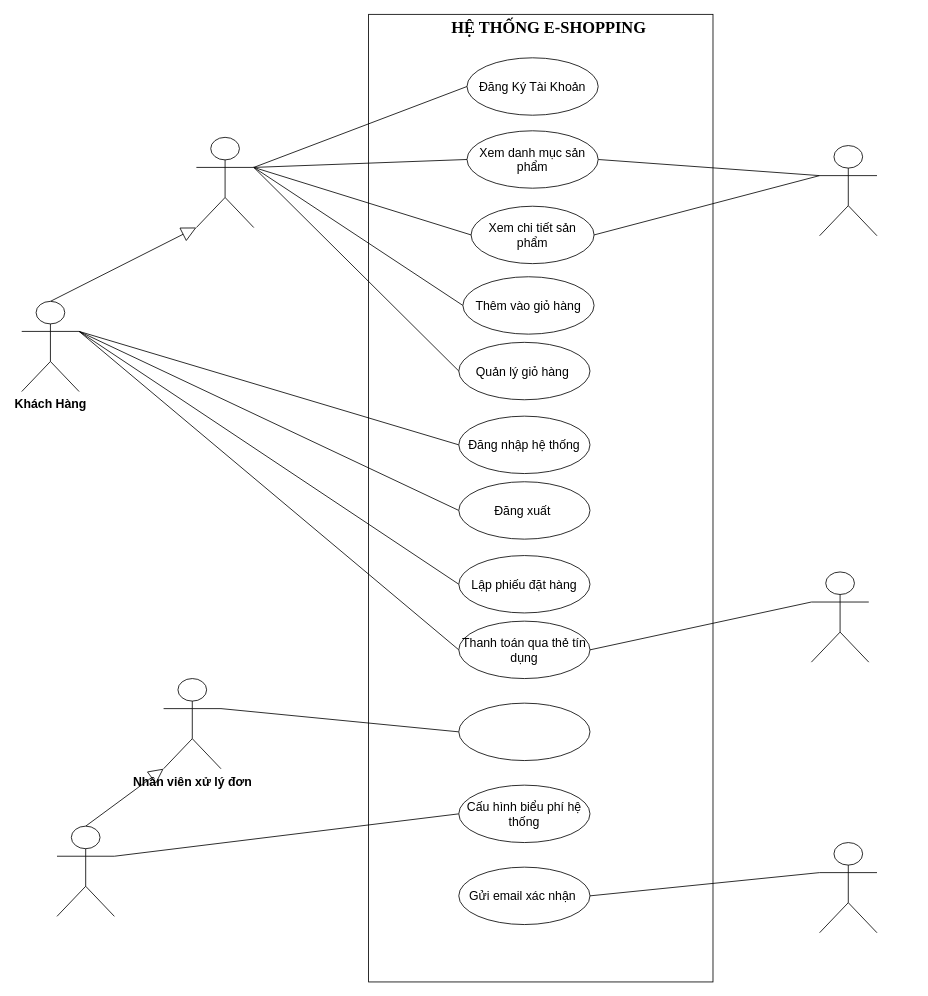
This 928x996 diagram has some shape labels left out. Each missing label, with the centre of its shape:
Dịch vụ email: [848,887]
Dịch Vụ thanh toán: [840,616]
HT Quản Lý Sản Phẩm: [848,190]
Khách Vãng Lai: [225,182]
Quản Trị Viên: [85,870]
Xử lý & cập nhật đơn hàng: [524,731]
